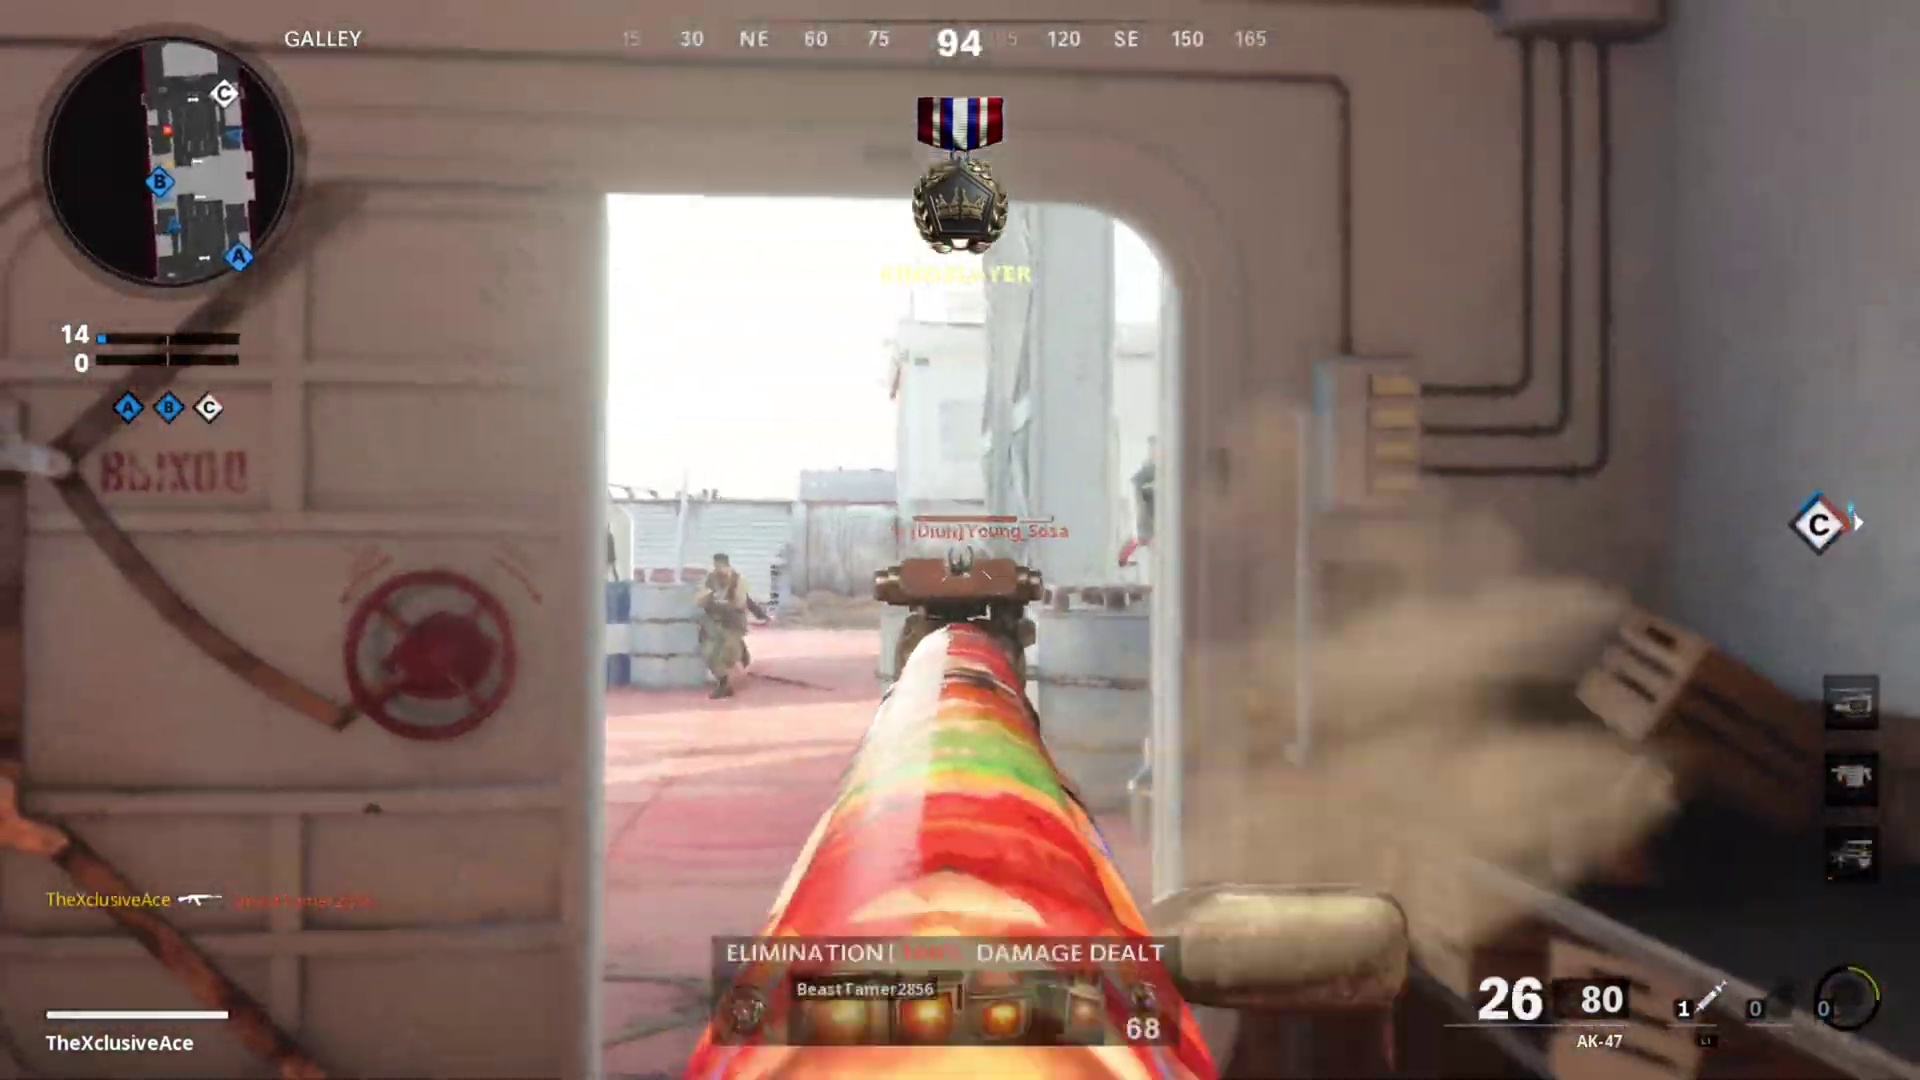head: (707, 548, 738, 587)
person: (691, 550, 757, 693)
